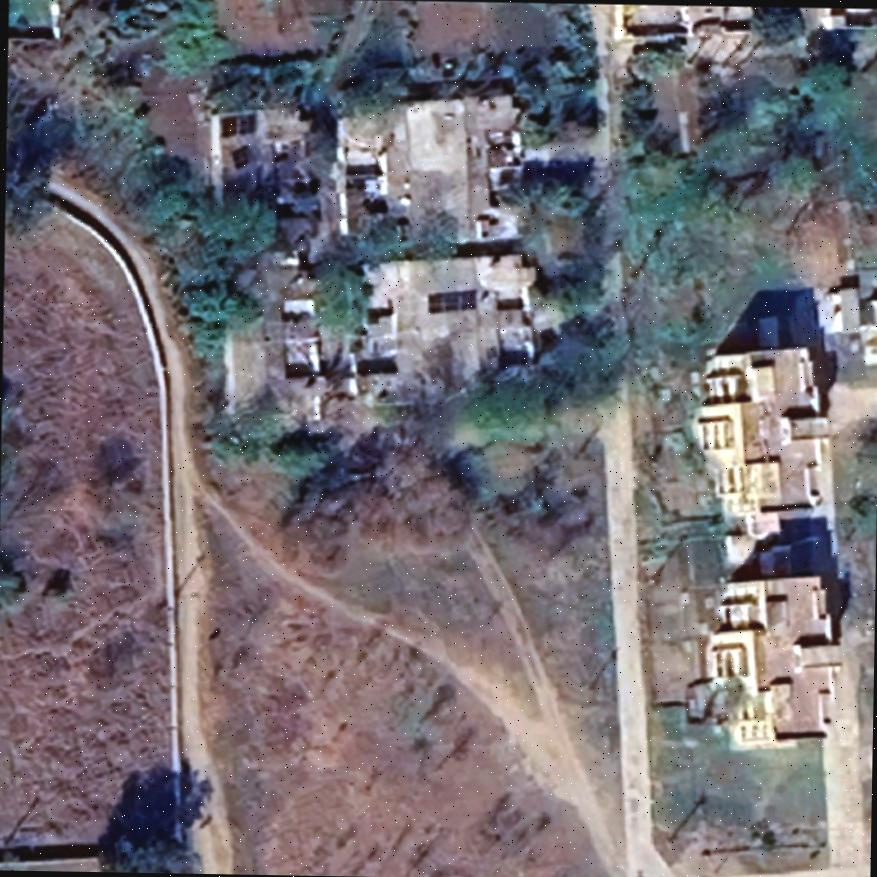Solarpanel: (422, 282, 481, 318)
